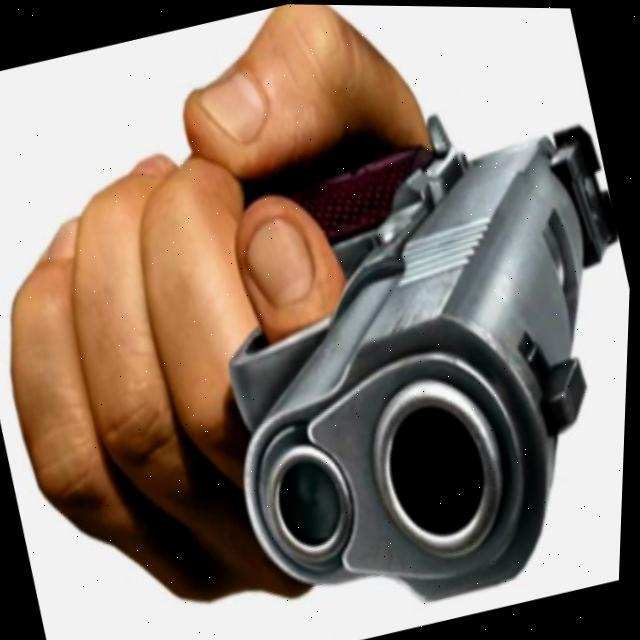gun: (162, 63, 638, 638)
